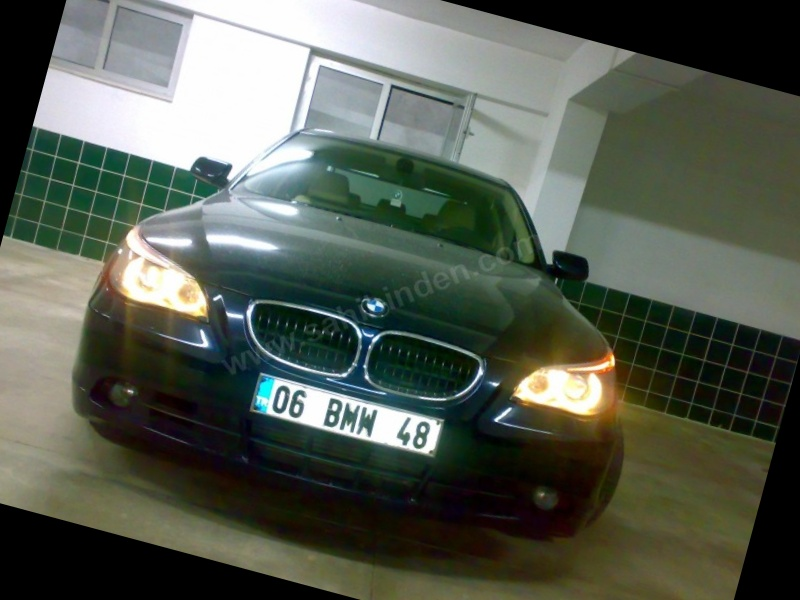plaka: (266, 380, 438, 460)
